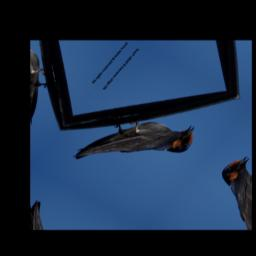Swallow: (72, 91, 203, 199)
